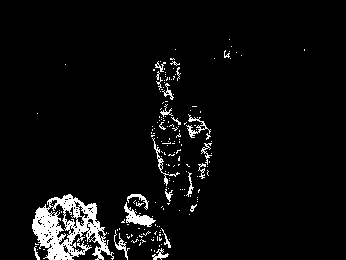person: (114, 192, 171, 260), (150, 99, 182, 203), (183, 104, 213, 212)
